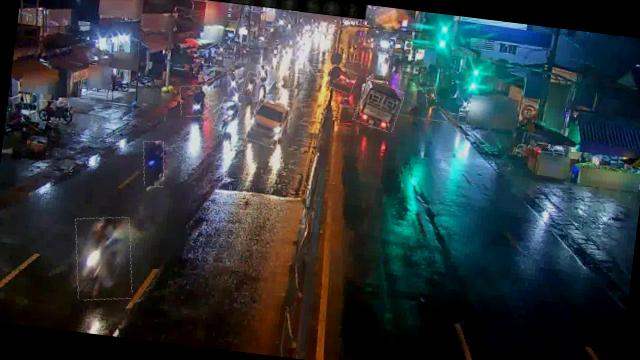Bike: (68, 212, 138, 304), (140, 140, 167, 188), (178, 82, 210, 118), (35, 98, 70, 124), (213, 98, 239, 132), (276, 63, 293, 90), (242, 70, 256, 97), (255, 63, 270, 84), (226, 72, 238, 98), (424, 86, 438, 108)
Car: (247, 98, 288, 146), (326, 66, 357, 94)
Truck: (354, 80, 403, 131)
